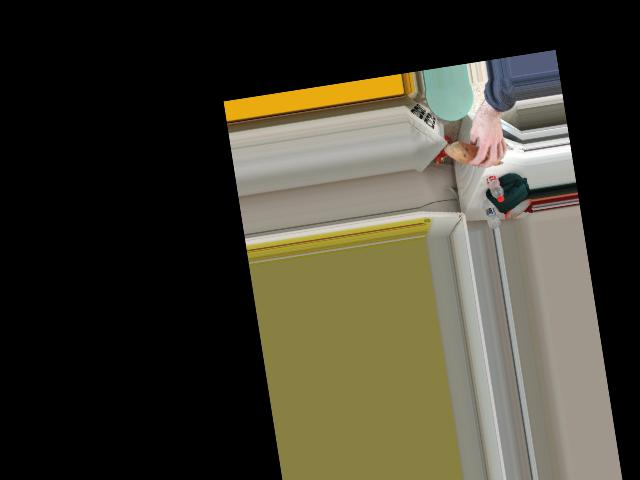sweet_potato: (449, 139, 505, 172)
